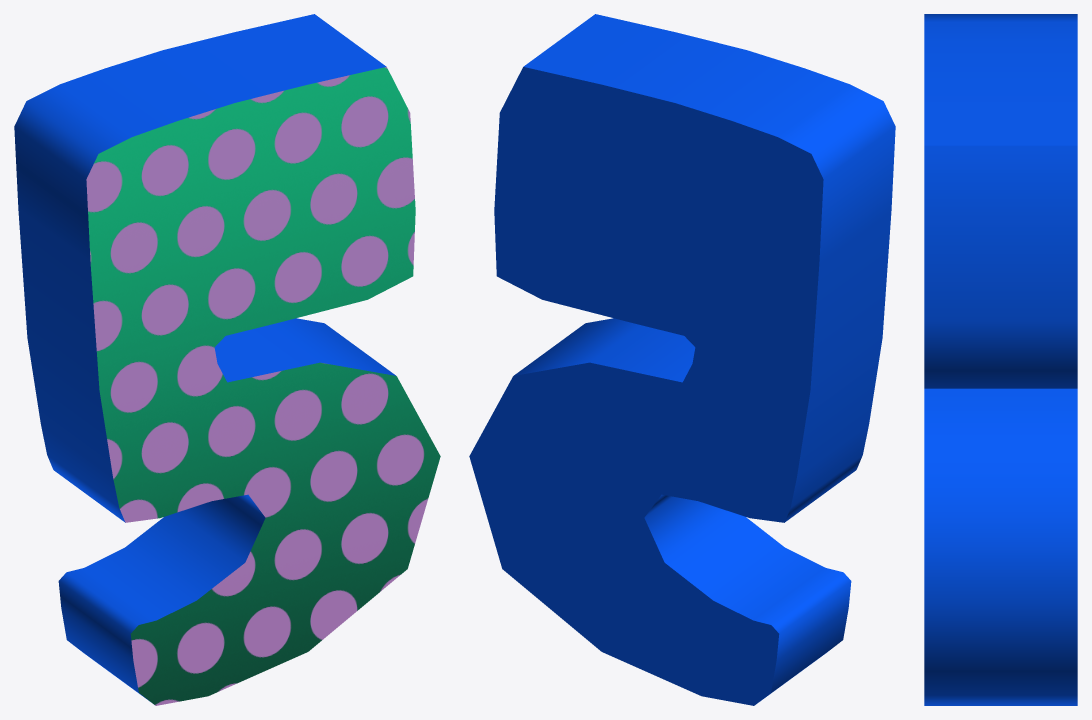
3 renders of one model, left to right at view 1: azimuth 30°, elevation 25°; view 2: azimuth 150°, elevation 25°; view 3: azimuth 270°, elevation 25°, orthographic. The views are drawn at different scales.
Parts seen in each view (by area): view 1: 5; view 2: 5; view 3: 5.
Part boxes in pixels (bbox=[...]): 5: bbox=[14, 14, 440, 705]; 5: bbox=[469, 14, 895, 705]; 5: bbox=[924, 14, 1077, 705].
Size of the model in its own units: 56.71 by 89.85 by 20.
Materials: 2 (1 with a texture image).
